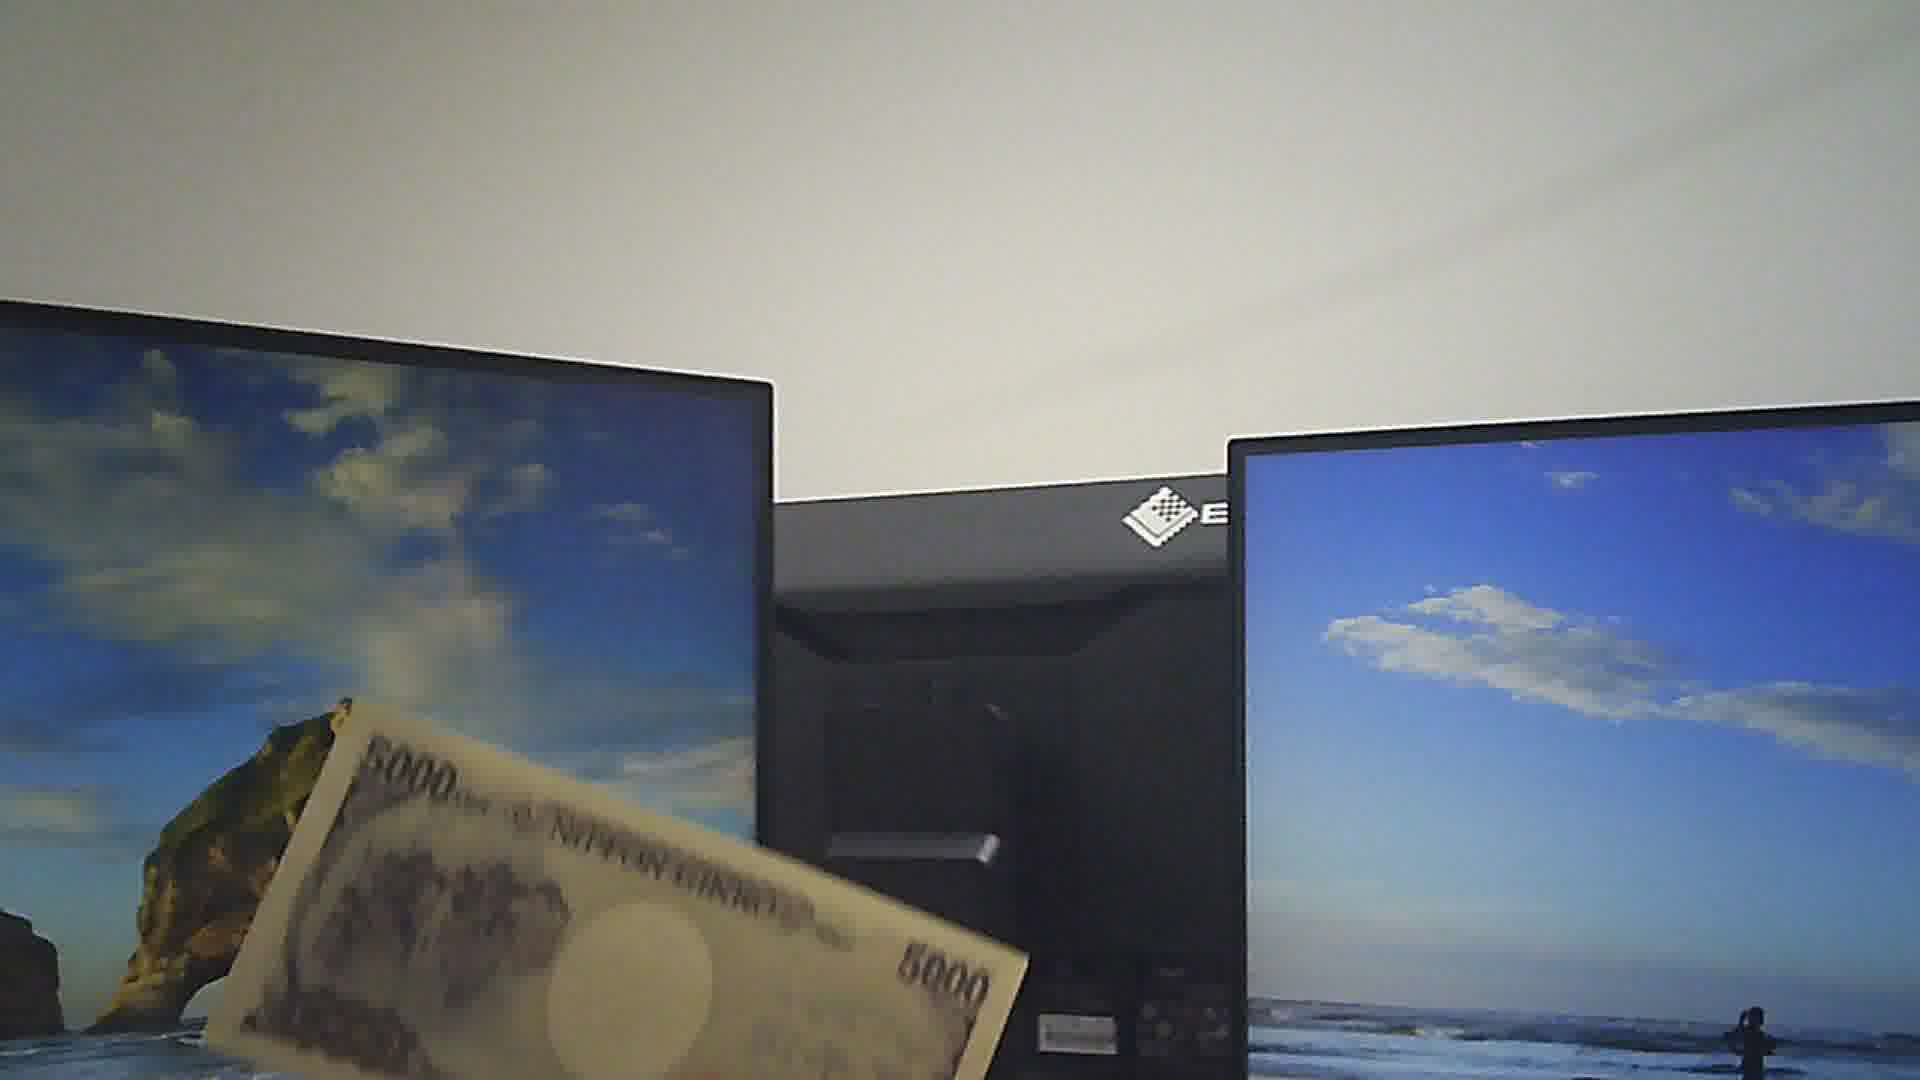5,000 Yen: (189, 692, 1007, 1079)
